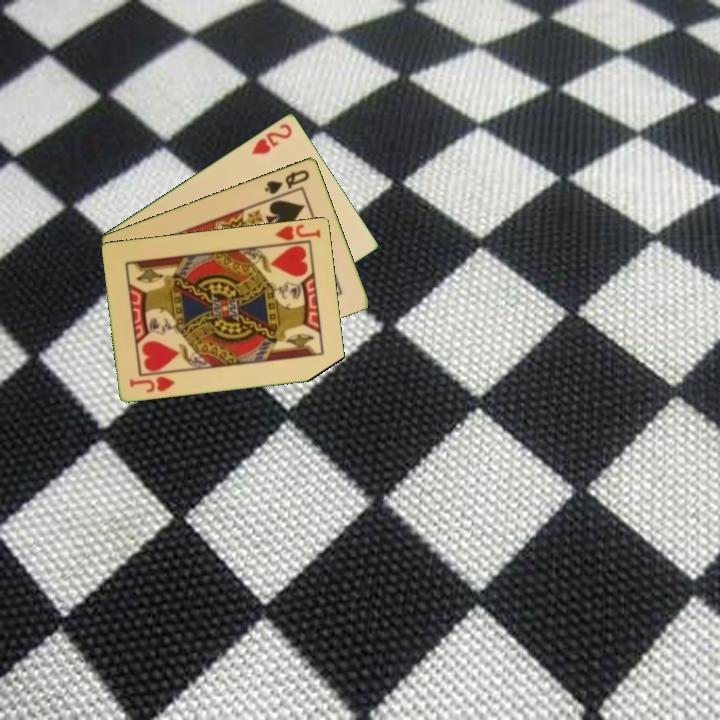2h: (248, 119, 295, 157)
Jh: (268, 220, 324, 247), (126, 372, 178, 395)
Qs: (261, 166, 313, 197)
